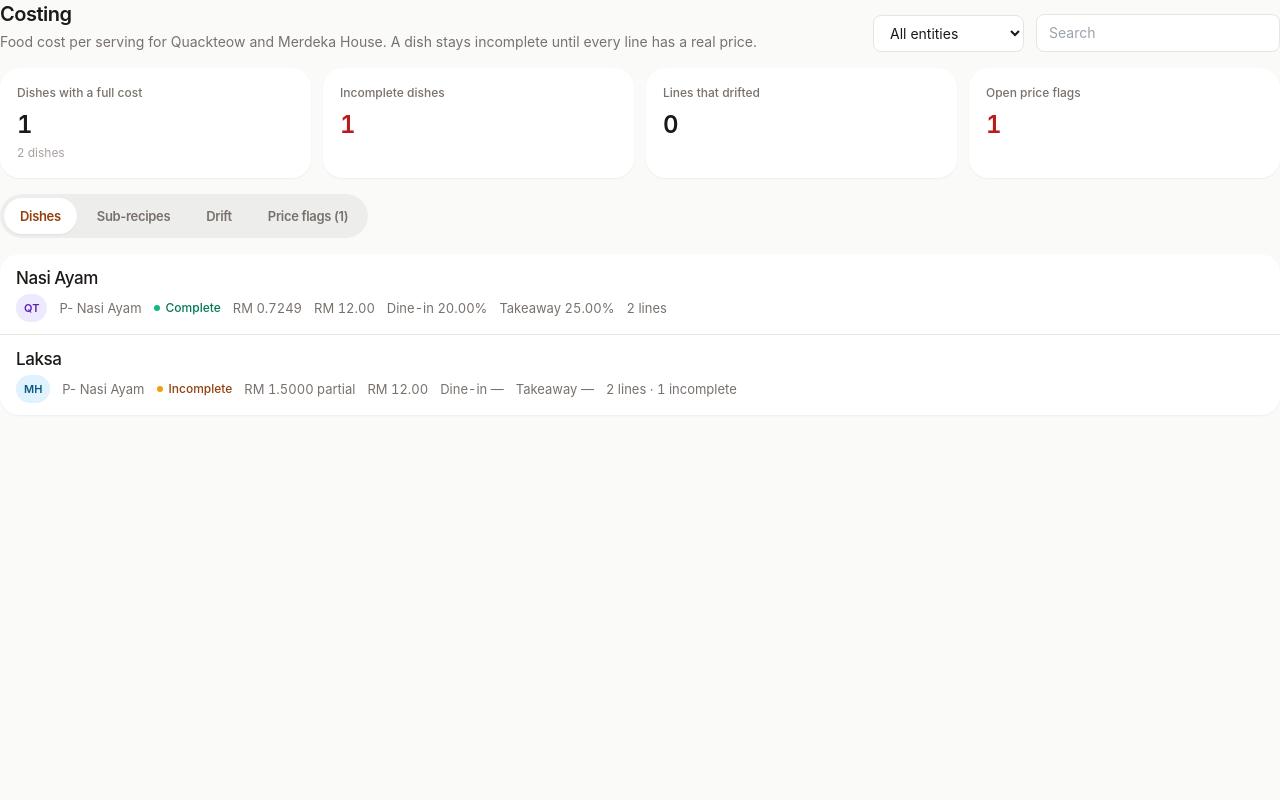
Test case: Costing › opens the bill of materials for a dish
Click the button "Nasi Ayam" at (57, 278), box 16,266 -> 1264,290
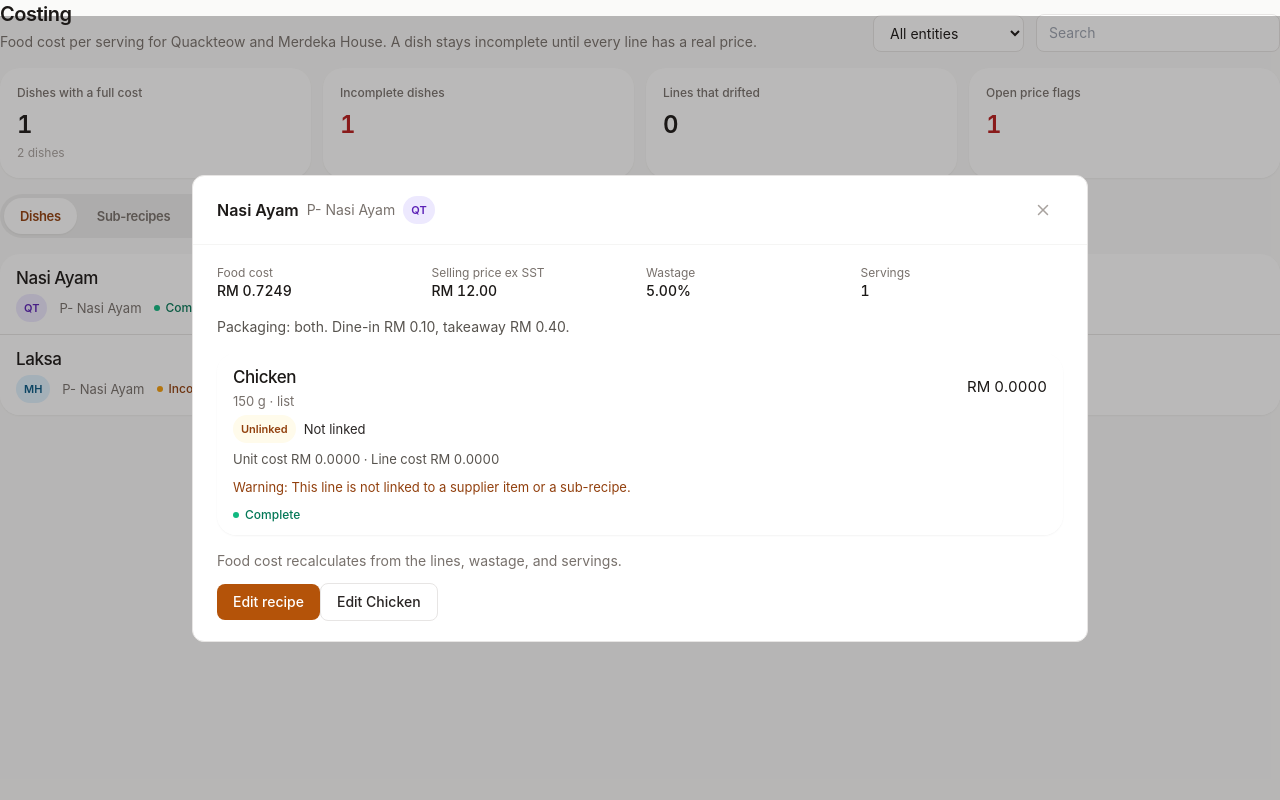
Expected: the text "Chicken" is shown, 233,366 -> 296,386
Expected: the text "Packaging: both. Dine-in RM 0.10, takeaway RM 0.40." is shown, 217,318 -> 570,334
